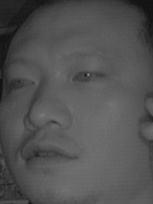eye: (5, 73, 38, 93), (72, 65, 104, 85)
mouth: (19, 134, 83, 174)
